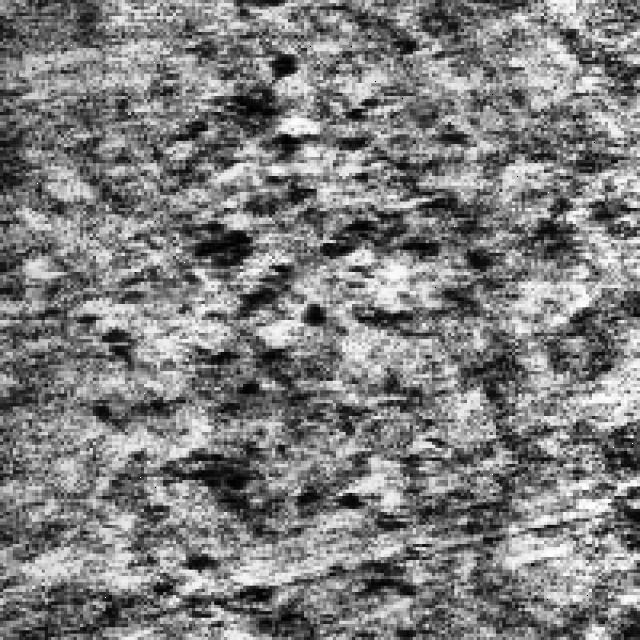Crazing: (90, 83, 487, 544), (118, 438, 406, 621)
